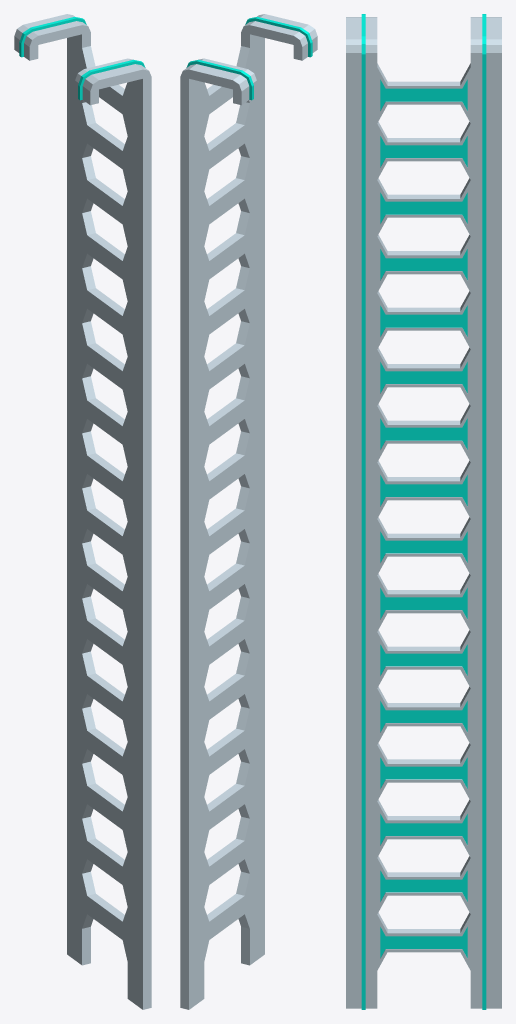
Rendered from ladder-02.fbx.
3 views of the same model, side by side, from view 1: azimuth 30°, elevation 25°; view 2: azimuth 150°, elevation 25°; view 3: azimuth 270°, elevation 25° (orthographic). The views are drawn at different scales.
Visible parts, largest first — view 1: ladder-02; view 2: ladder-02; view 3: ladder-02.
Part boxes in pixels (bbox=[...]): ladder-02: bbox=[14, 14, 151, 1009]; ladder-02: bbox=[180, 14, 317, 1009]; ladder-02: bbox=[346, 14, 501, 1009].
Bounding box in the file's own units: 7.6 × 103 × 15.
